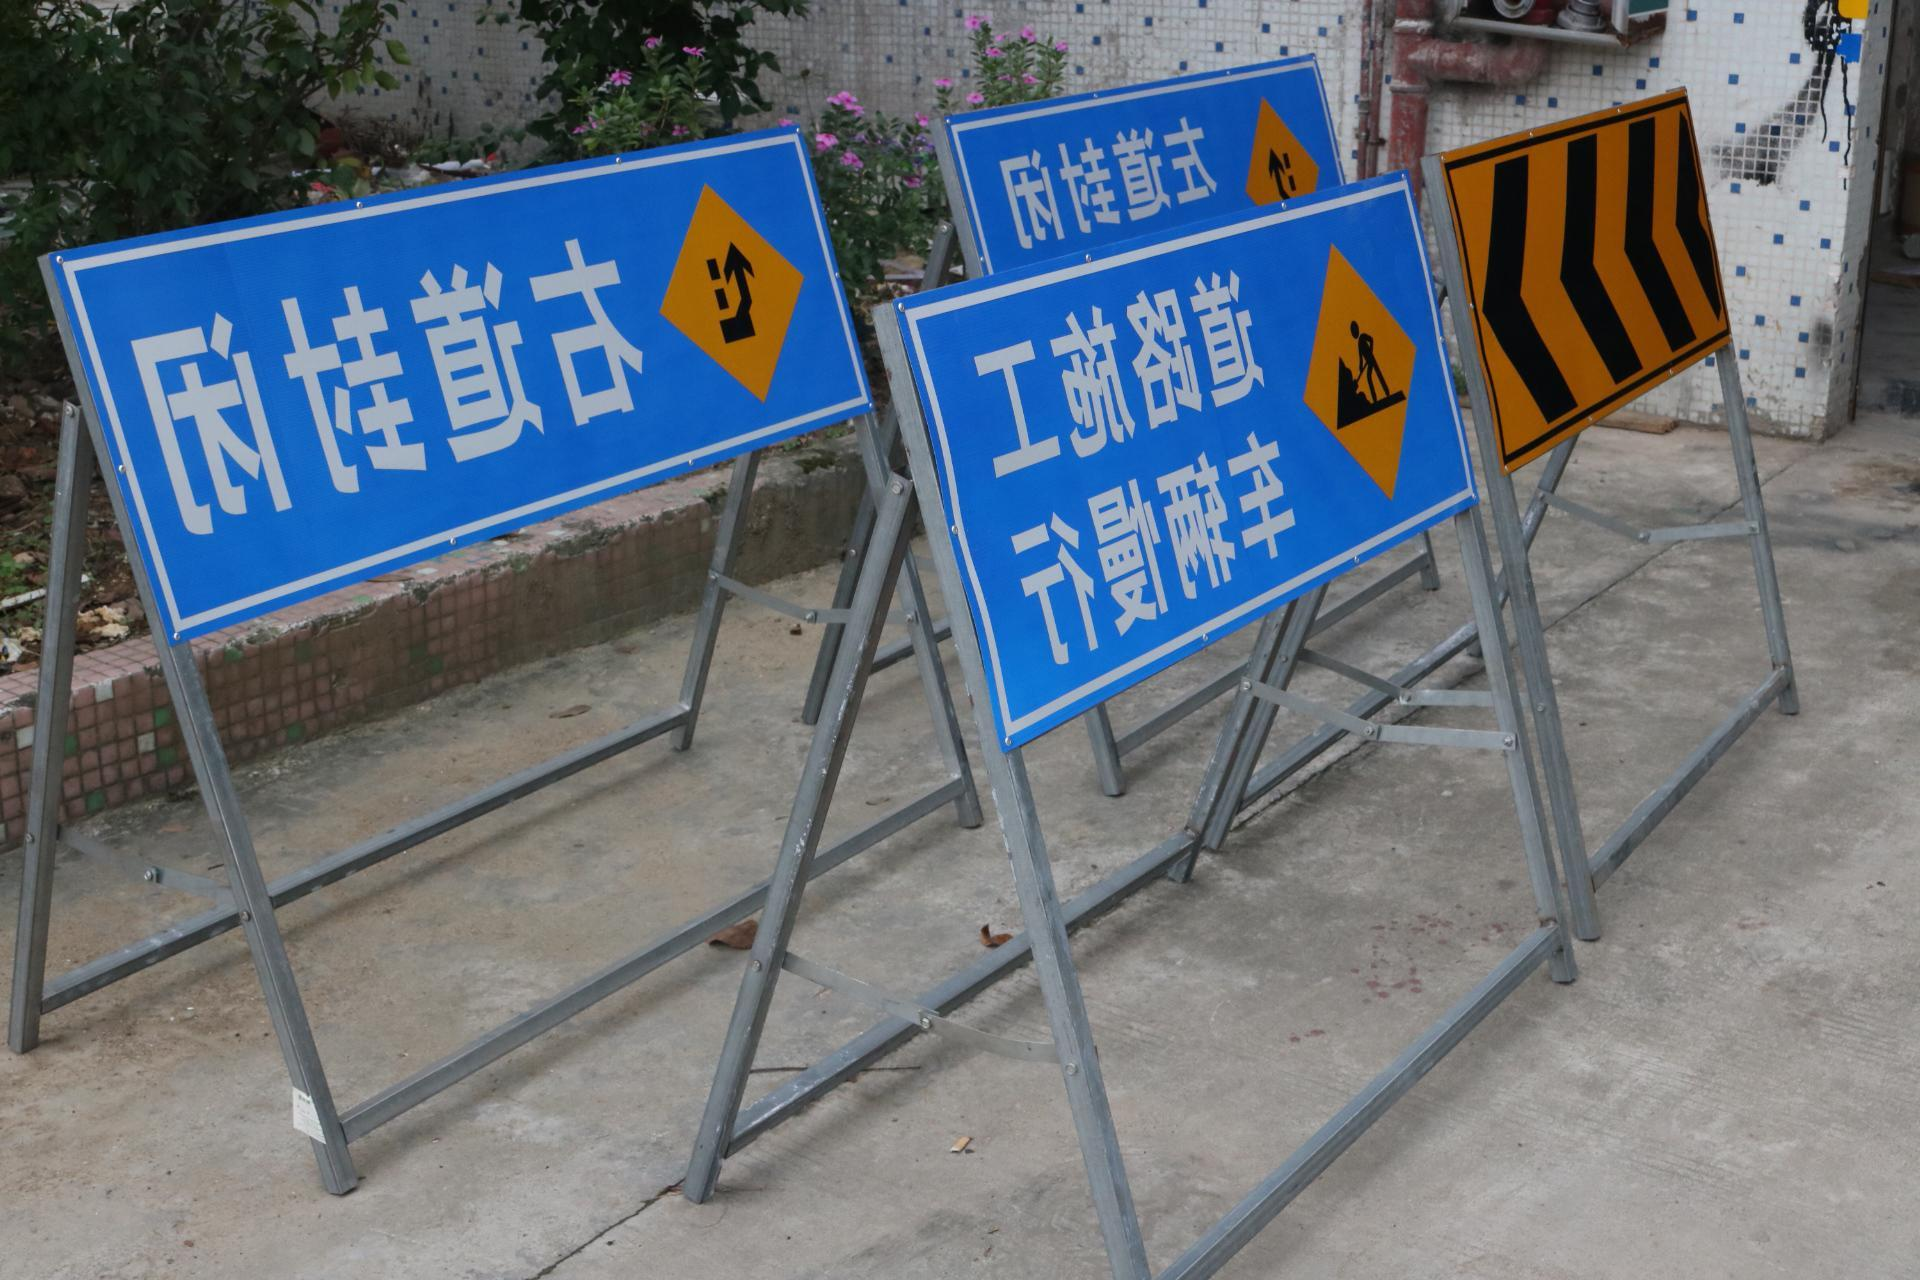sign: (66, 106, 874, 637), (899, 156, 1474, 721), (1434, 87, 1889, 479), (941, 37, 1354, 334)
